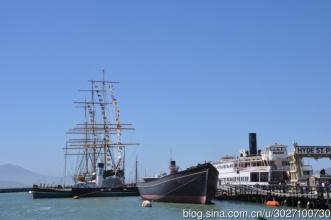fanchuan: (34, 73, 130, 194)
otherboat: (133, 157, 222, 204)
